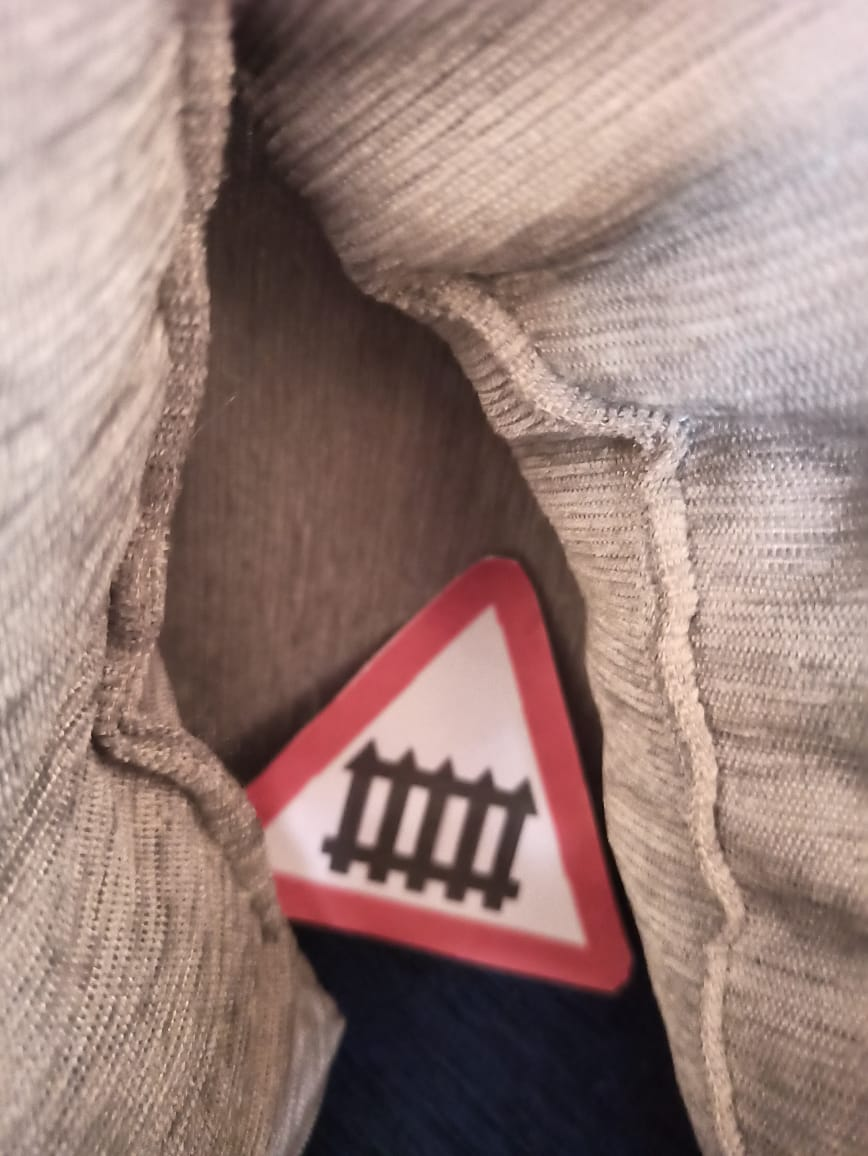GUARDED LEVEL CROSSING: (166, 516, 655, 1010)
